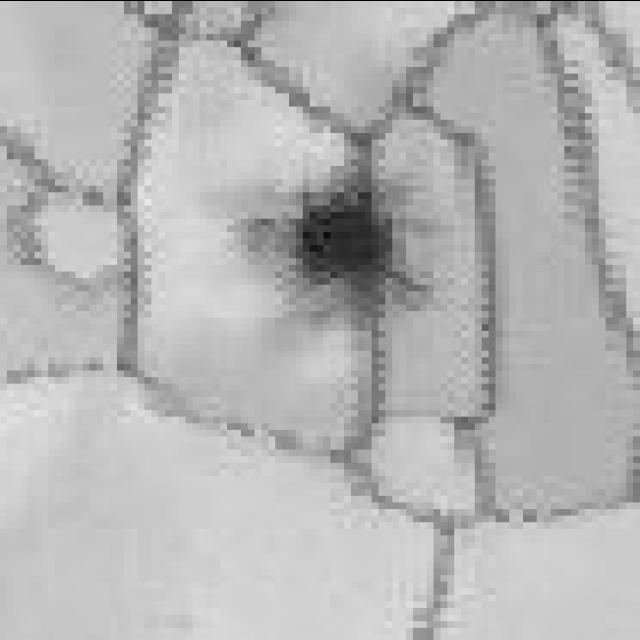good_void: (219, 150, 446, 335)
